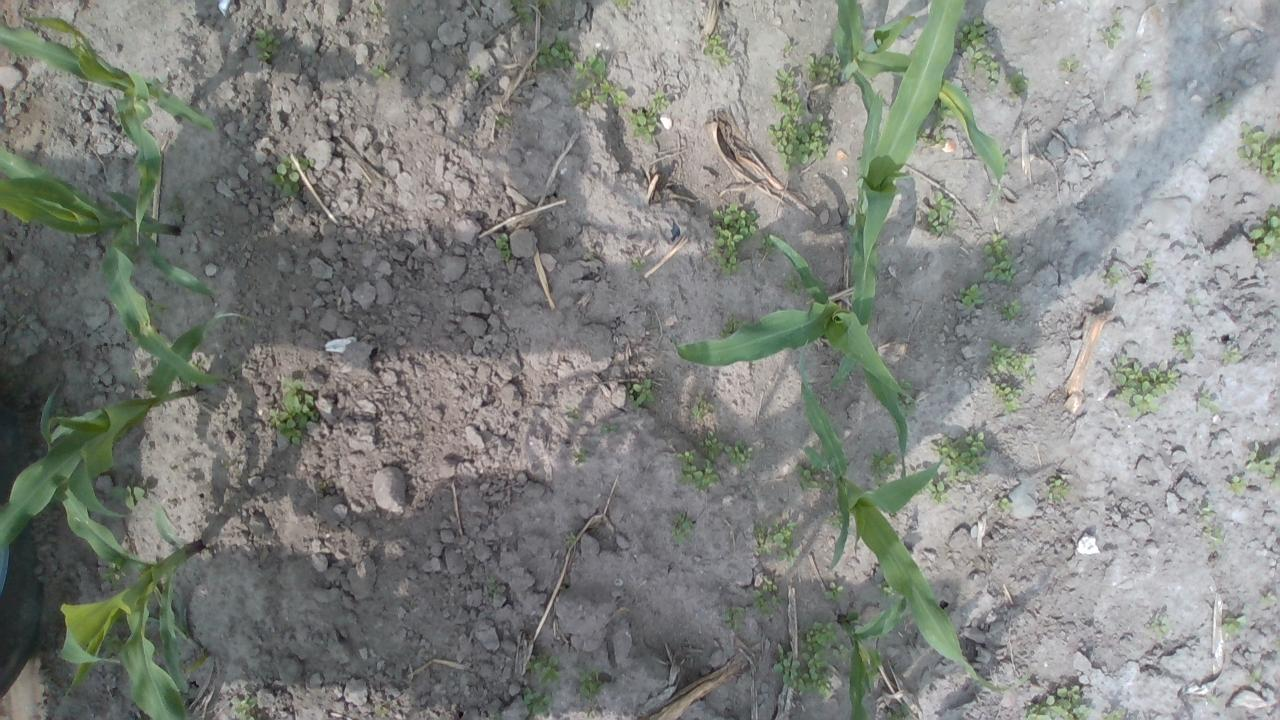Maize: (794, 335, 1034, 693), (0, 312, 249, 556), (0, 145, 229, 402), (38, 381, 206, 720), (674, 231, 908, 473), (830, 0, 963, 397), (0, 9, 216, 253), (826, 0, 1006, 207), (836, 591, 908, 720)
Weeds: (673, 430, 752, 490), (1107, 352, 1177, 417), (952, 14, 1002, 96), (801, 622, 851, 700), (708, 201, 759, 275), (767, 114, 830, 172), (268, 375, 318, 448), (566, 55, 629, 110), (930, 431, 990, 481), (1237, 118, 1280, 184), (985, 338, 1039, 386), (1026, 683, 1092, 720), (751, 514, 800, 561), (266, 156, 316, 198), (768, 66, 806, 118), (983, 232, 1017, 284), (1248, 206, 1280, 259), (109, 475, 150, 513), (536, 33, 576, 70), (750, 576, 784, 616), (1244, 450, 1280, 487), (623, 108, 659, 145), (928, 190, 956, 236), (770, 652, 801, 690), (870, 448, 899, 487), (701, 34, 736, 66), (254, 23, 282, 63), (990, 382, 1024, 414), (528, 654, 562, 686), (798, 462, 834, 492), (626, 377, 659, 409), (806, 54, 839, 84), (1198, 507, 1224, 545), (520, 686, 552, 716), (1098, 13, 1124, 49), (576, 665, 601, 702), (928, 98, 956, 130), (670, 511, 696, 544), (100, 560, 128, 590), (722, 604, 747, 632), (1006, 70, 1028, 100), (915, 127, 946, 148), (510, 0, 535, 26), (960, 281, 984, 308), (232, 695, 257, 720), (690, 396, 716, 420), (1047, 479, 1071, 504), (1172, 331, 1194, 358), (926, 479, 948, 505), (649, 90, 672, 114), (1000, 298, 1025, 320), (720, 318, 746, 338), (757, 232, 783, 252), (47, 400, 77, 417), (146, 299, 169, 320), (1196, 392, 1218, 413), (486, 576, 506, 599), (886, 702, 911, 720), (783, 272, 801, 296), (571, 447, 591, 468), (1101, 266, 1120, 288), (822, 582, 844, 601), (182, 658, 208, 674), (1226, 474, 1246, 494), (496, 233, 512, 257), (366, 63, 390, 78), (1136, 78, 1154, 98), (66, 33, 84, 52), (1222, 617, 1241, 635), (1150, 621, 1169, 639), (1058, 56, 1078, 73), (167, 194, 184, 214), (1224, 346, 1241, 364), (992, 497, 1013, 511), (897, 377, 913, 395), (898, 398, 914, 416), (878, 580, 894, 598), (1214, 98, 1232, 113), (830, 510, 844, 529), (466, 64, 482, 80), (495, 114, 513, 128), (630, 258, 648, 272), (781, 38, 794, 54), (606, 0, 634, 7), (567, 406, 581, 419), (564, 531, 576, 546), (128, 367, 139, 382), (600, 424, 616, 434), (1103, 711, 1120, 720), (1262, 594, 1278, 603), (368, 4, 382, 14), (1249, 671, 1260, 682), (1143, 261, 1153, 272), (1186, 298, 1198, 306), (542, 0, 558, 6), (78, 399, 88, 405)
